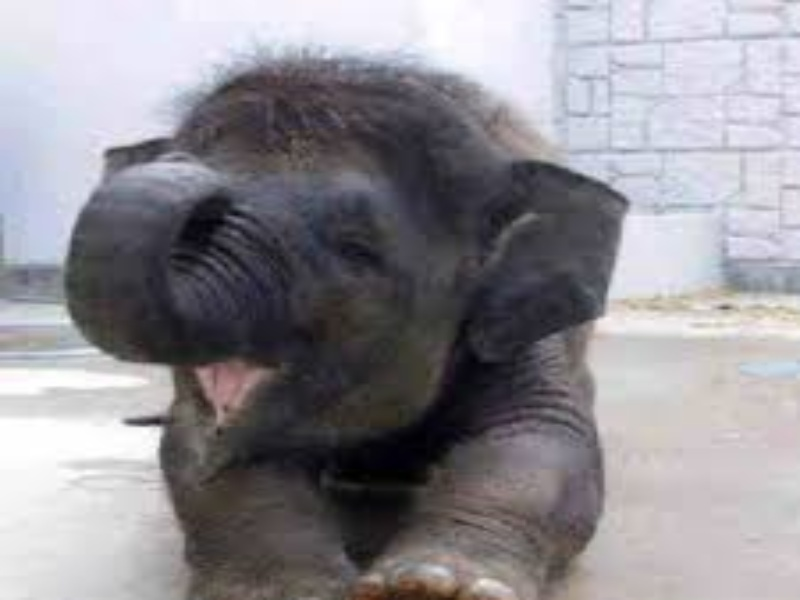elephant: (45, 22, 671, 588)
